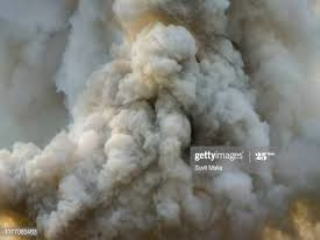smoke: (8, 13, 275, 217)
